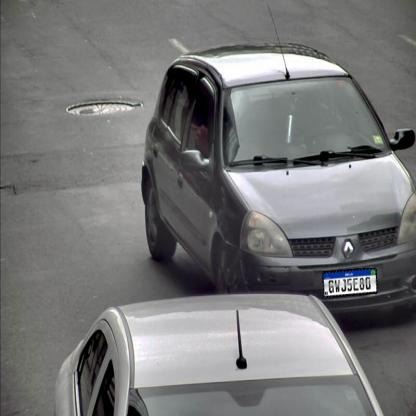PlacaM: (322, 268, 378, 298)
